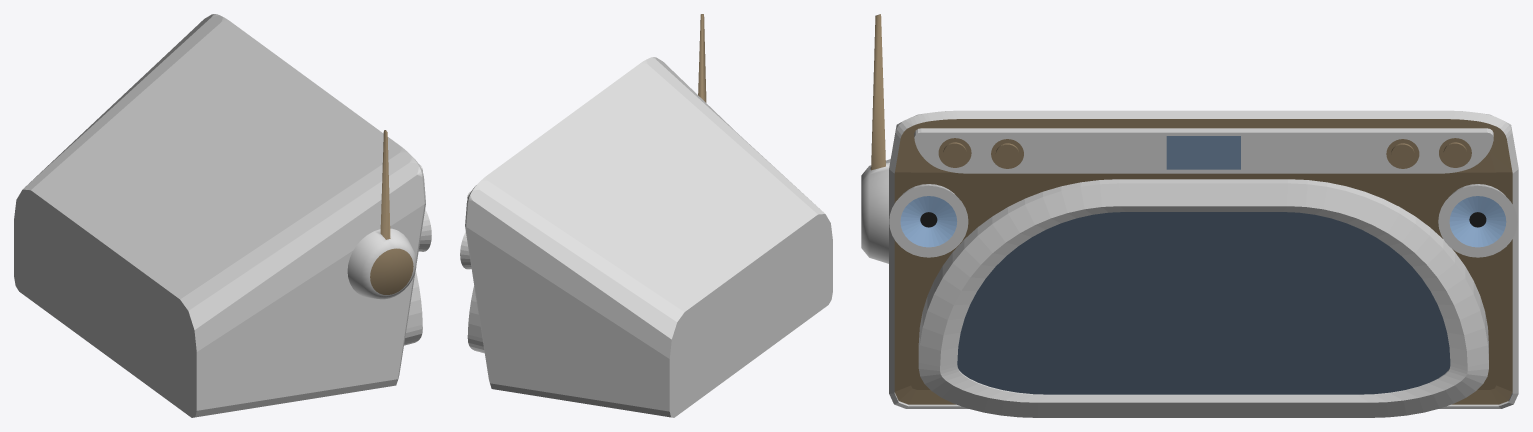
The model's file is Radio-Microwave_02_240929.fbx.
3 views of the same model, side by side, from view 1: azimuth 30°, elevation 25°; view 2: azimuth 150°, elevation 25°; view 3: azimuth 270°, elevation 25° (orthographic). The views are drawn at different scales.
Parts seen in each view (by area): view 1: RM-12, Antenna, Microwave-Door; view 2: RM-12, Microwave-Door, Antenna; view 3: Microwave-Door, RM-12, RM_Displayboard, Cylinder.009, Cylinder.008, Antenna, Display, Cylinder, Cylinder.002, Cylinder.001, Cylinder.003.
Part boxes in pixels (bbox=[...]): RM-12: bbox=[14, 14, 425, 417]; Antenna: bbox=[347, 130, 416, 299]; Microwave-Door: bbox=[404, 270, 422, 345]; RM-12: bbox=[465, 57, 832, 417]; Microwave-Door: bbox=[467, 285, 484, 353]; Antenna: bbox=[698, 14, 706, 102]; Microwave-Door: bbox=[918, 179, 1488, 417]; RM-12: bbox=[889, 110, 1518, 408]; RM_Displayboard: bbox=[914, 128, 1493, 173]; Cylinder.009: bbox=[1438, 184, 1517, 257]; Cylinder.008: bbox=[889, 184, 968, 257]; Antenna: bbox=[861, 14, 890, 263]; Display: bbox=[1166, 136, 1240, 169]; Cylinder: bbox=[938, 138, 971, 167]; Cylinder.002: bbox=[1386, 139, 1419, 168]; Cylinder.001: bbox=[991, 139, 1023, 168]; Cylinder.003: bbox=[1439, 138, 1471, 167].
Size of the model in its own units: 214 by 242 by 376.
